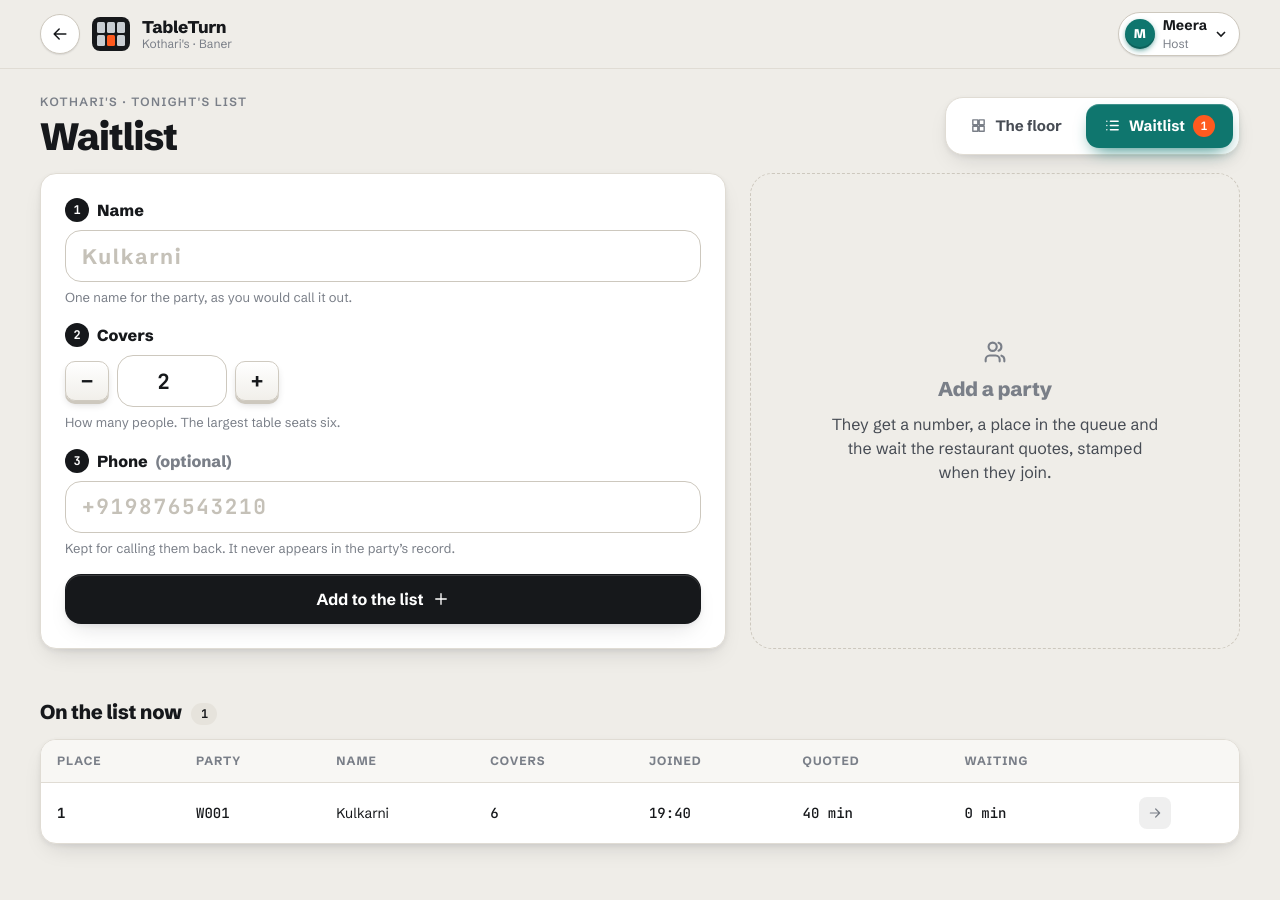
it: F-06 · Handing over the number › a second party's strip puts the first in line on the left and the new party after it
This screenshot has width=1280, height=900.
Type "Shah" into the field labelled "1 Name" at [383, 256], box [66, 231, 700, 281]
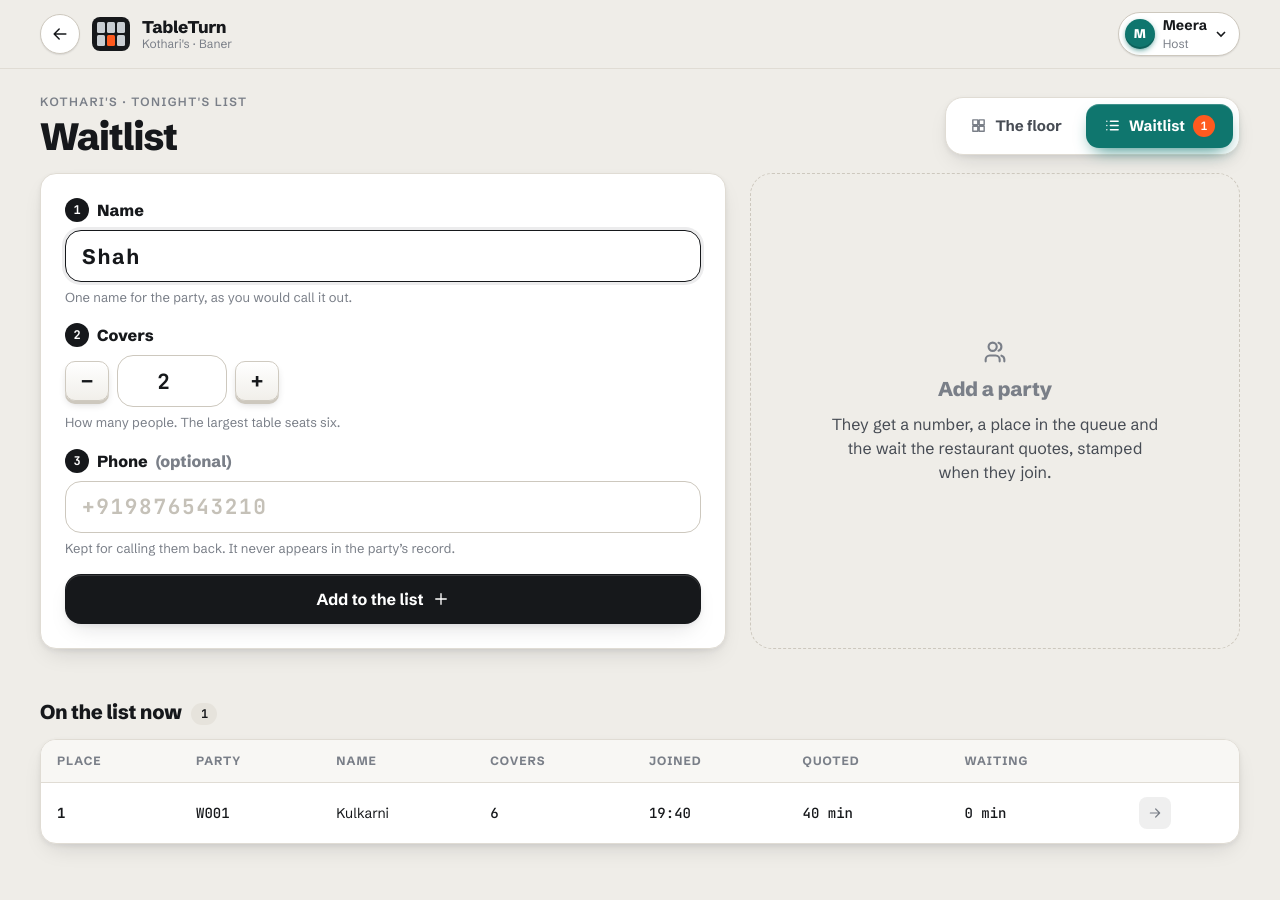
Click the button "Add to the list" at [383, 599], box [65, 574, 701, 624]
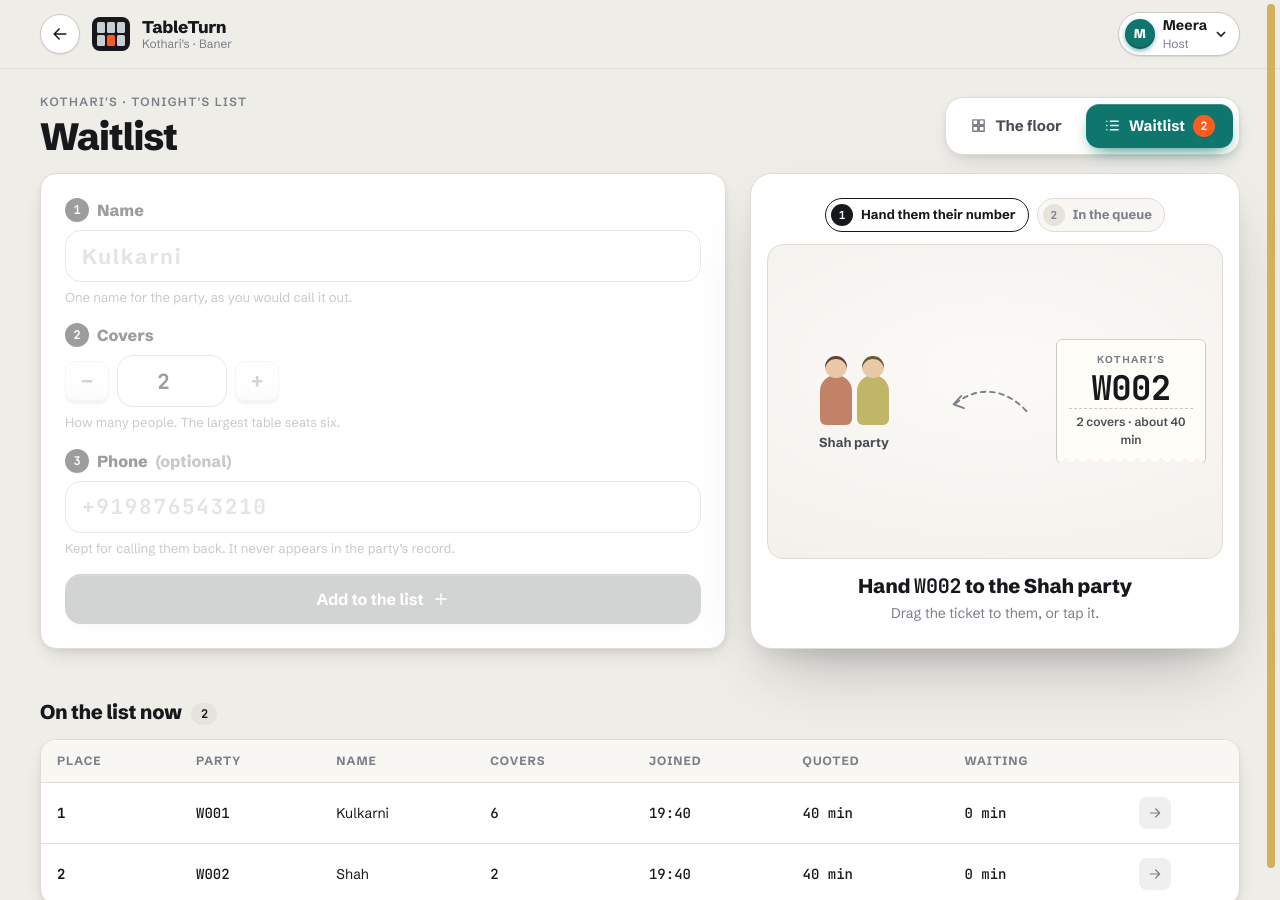
Click the button "Kothari's W002 2 covers · about 40 min" at [1131, 402], box [1056, 339, 1206, 464]
Wait 1500 ms
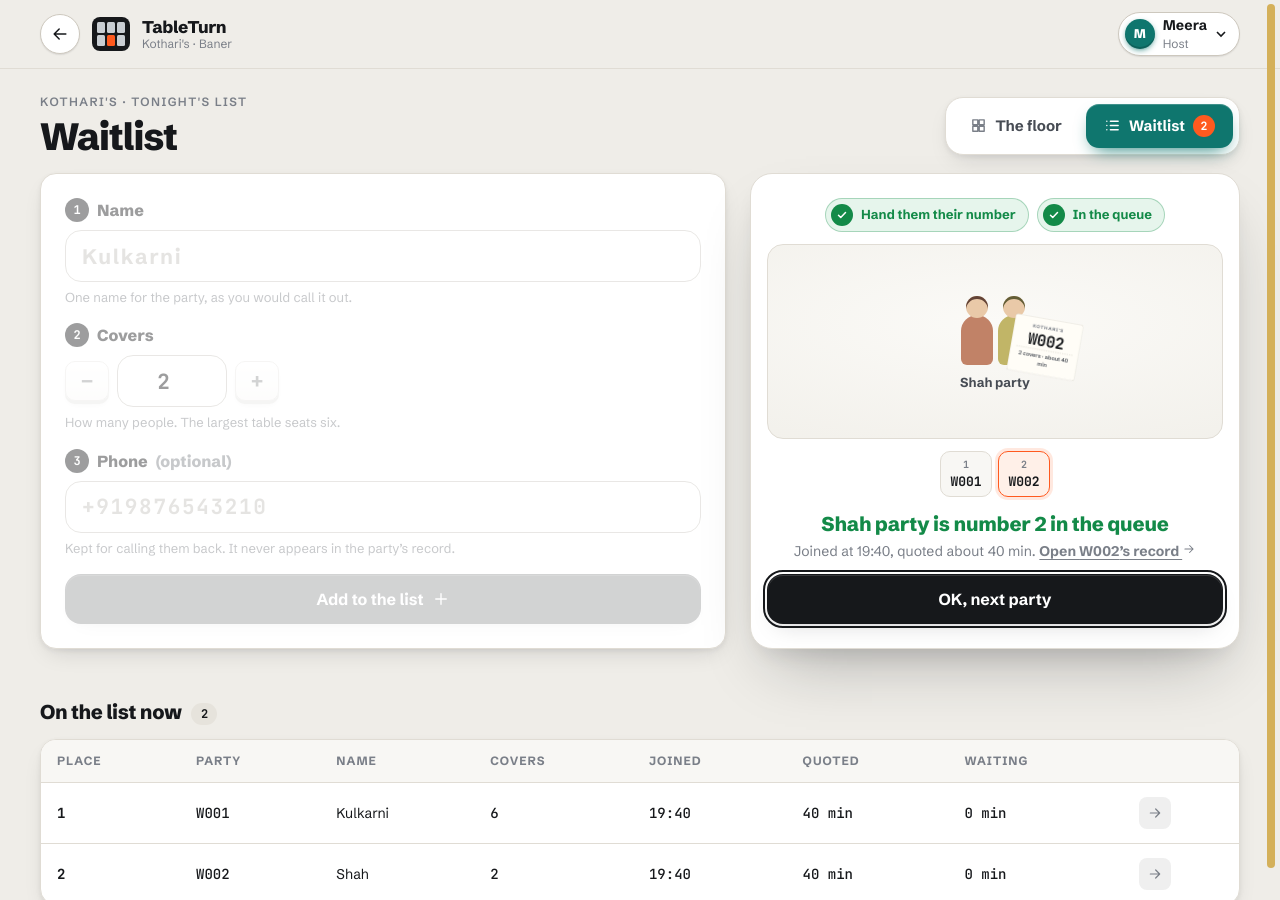
Expected: the text "Shah party is number 2 in the queue" is shown, [794, 509, 1196, 539]
